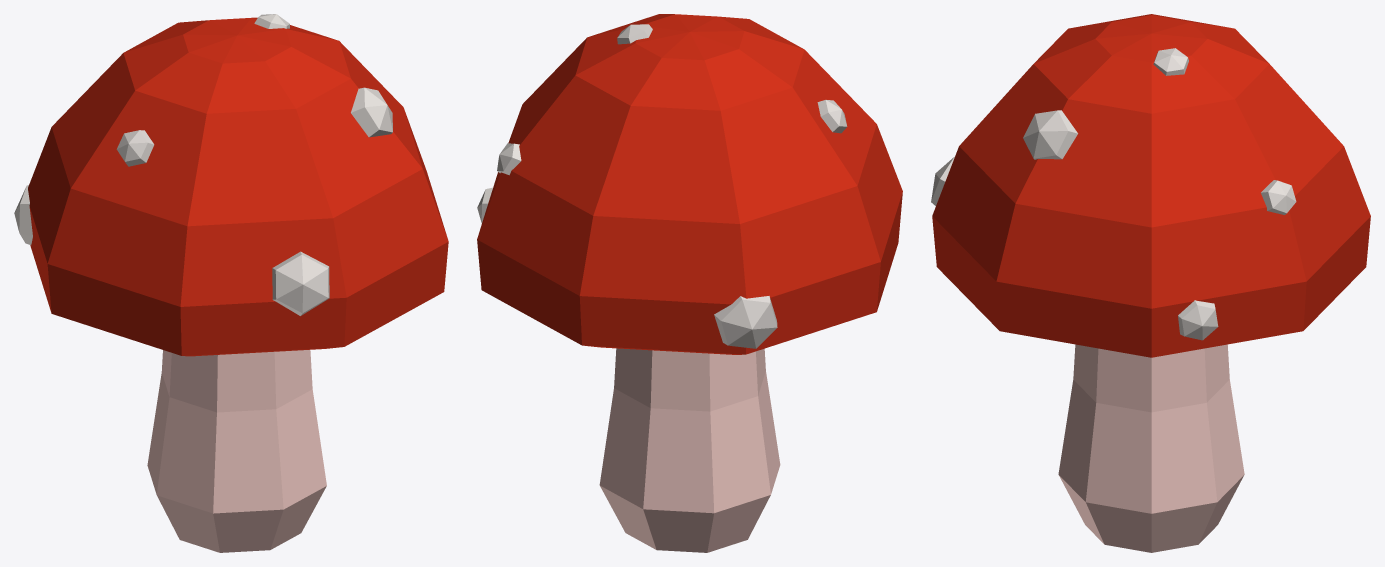
File: Mushroom_03.fbx
3 renders of one model, left to right at view 1: azimuth 30°, elevation 25°; view 2: azimuth 150°, elevation 25°; view 3: azimuth 270°, elevation 25°, orthographic.
Parts seen in each view (by area): view 1: Mushroom_03; view 2: Mushroom_03; view 3: Mushroom_03.
Part boxes in pixels (x1,y1,x2,y2): Mushroom_03: [14, 14, 448, 552]; Mushroom_03: [477, 14, 902, 552]; Mushroom_03: [931, 14, 1370, 552].
Bounding box in the file's own units: 76.34 × 94.78 × 76.54.
